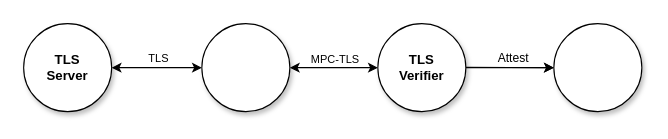
Some shapes in this 668 by 139 pixel diagram are drawn without their labels. Here are the shapes that lost their labels. From the top down, the centre of each, then its label:
At pixel 246 68: "TLS Prover".
At pixel 598 68: "Attestation Verifier".
